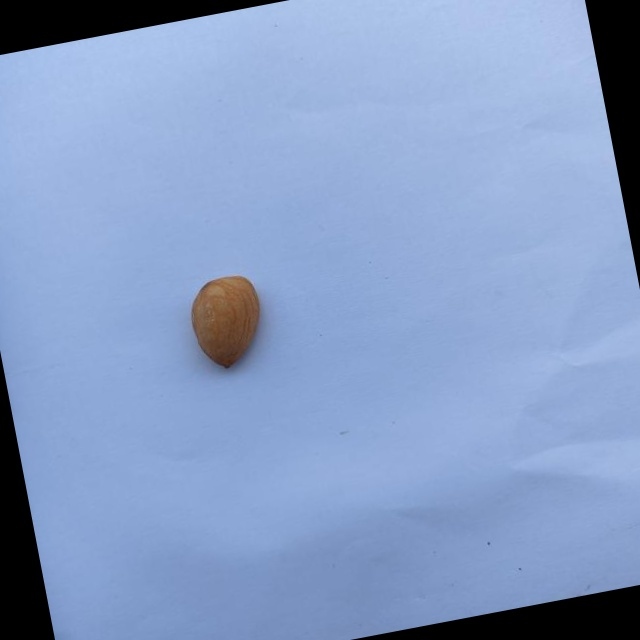grade2: (181, 267, 278, 377)
